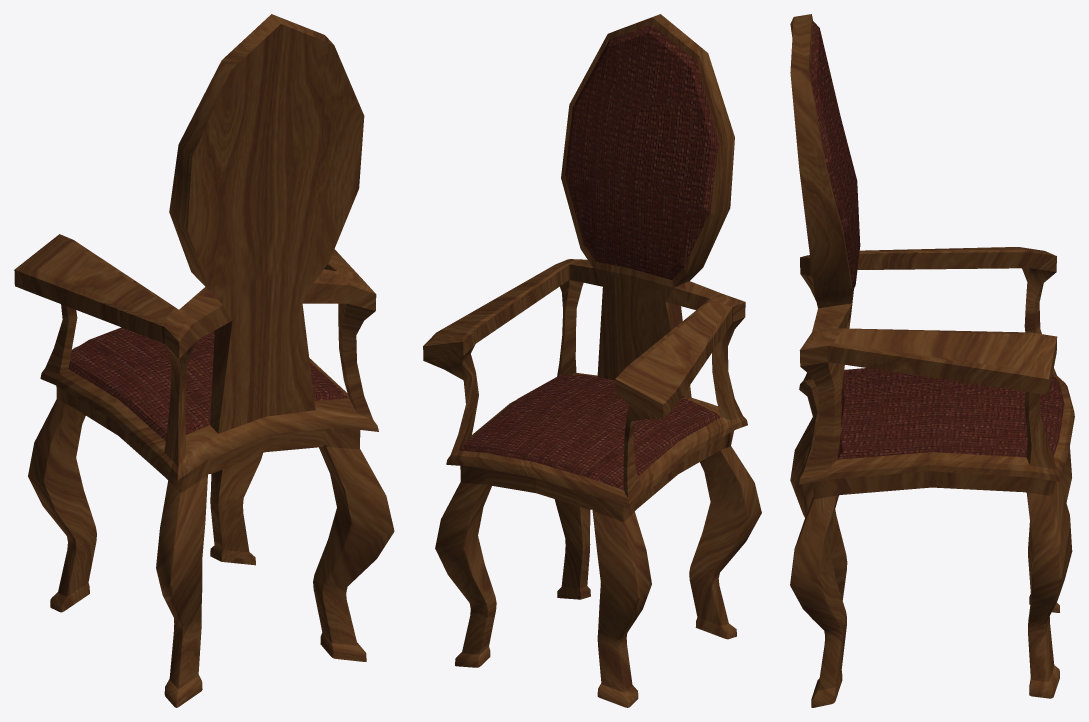
File: Bedroom_Chair.fbx
The picture shows the model from 3 angles, left to right: view 1: azimuth 30°, elevation 25°; view 2: azimuth 150°, elevation 25°; view 3: azimuth 270°, elevation 25°; orthographic projection. The views are drawn at different scales.
Parts seen in each view (by area): view 1: DeskChairUVd:pCube11; view 2: DeskChairUVd:pCube11; view 3: DeskChairUVd:pCube11.
Part boxes in pixels (box(x1,y1,x2,y2)): DeskChairUVd:pCube11: box(14, 14, 394, 707); DeskChairUVd:pCube11: box(423, 14, 761, 707); DeskChairUVd:pCube11: box(790, 14, 1074, 707).
Bounding box in the file's own units: 69.14 × 165 × 65.45.
